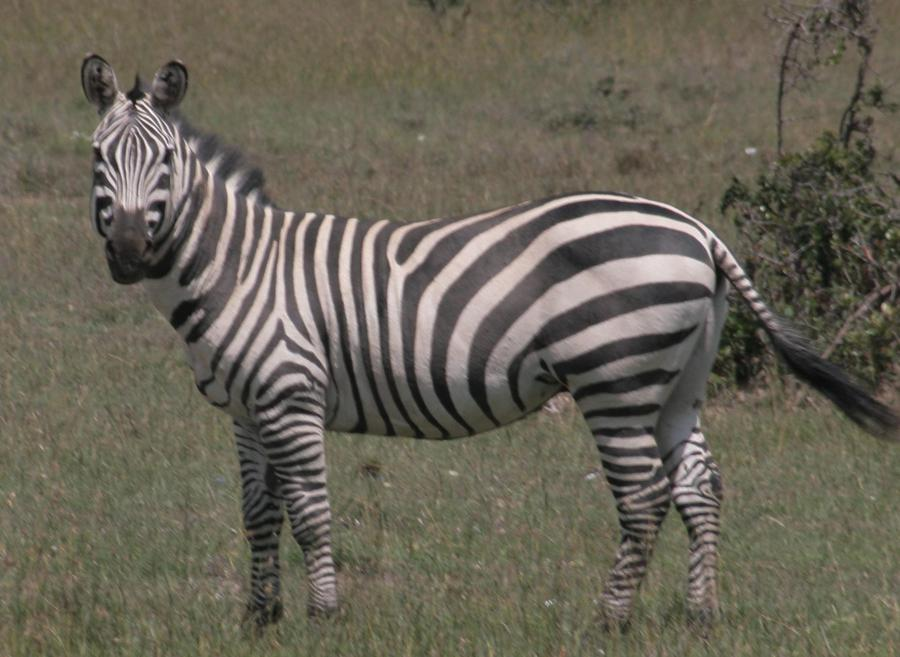zebra_plains: (191, 175, 715, 450)
